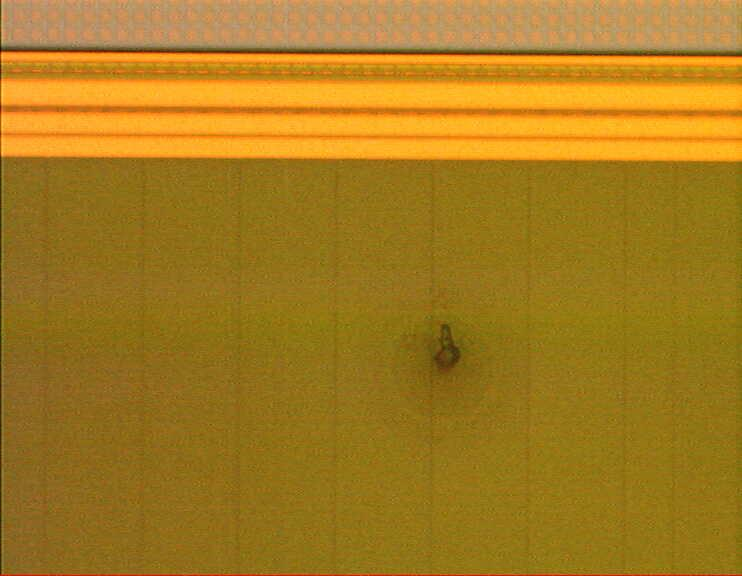COATING BAD: (413, 315, 481, 383)
